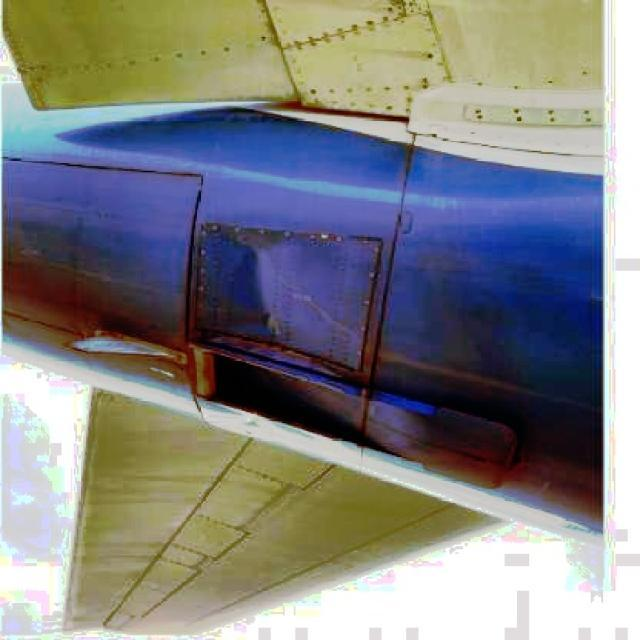dent: (196, 246, 304, 360)
